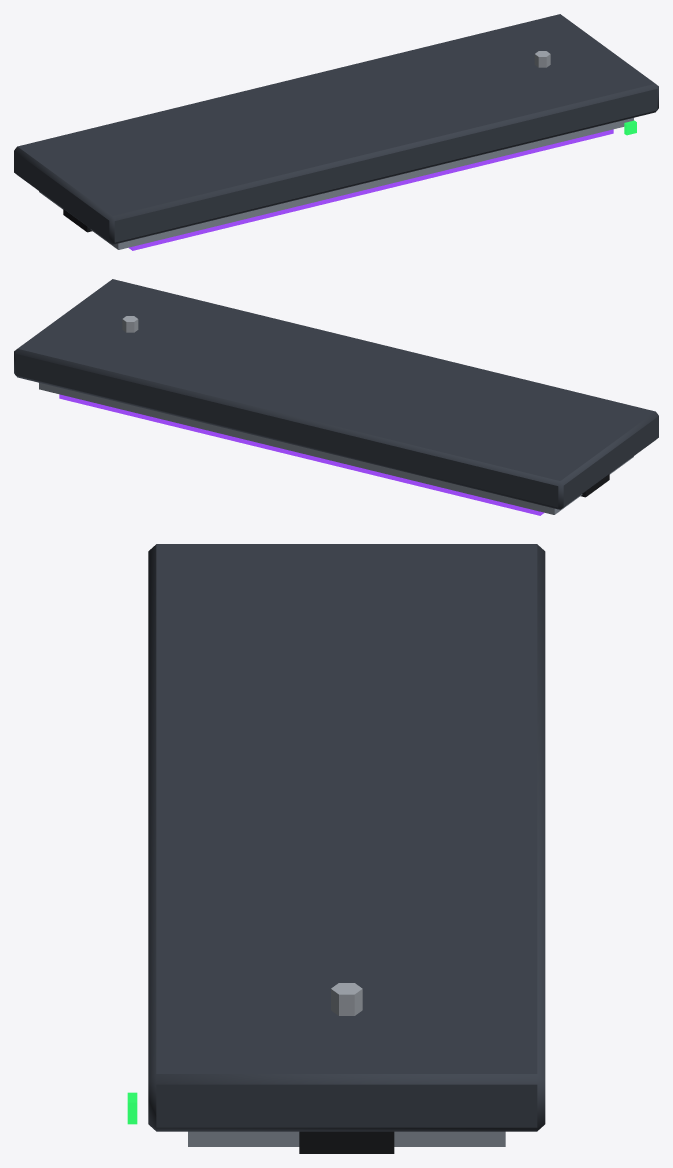
The model's file is planter_grow_light_bar_panel.glb.
3 renders of one model, top to bottom at view 1: azimuth 30°, elevation 25°; view 2: azimuth 150°, elevation 25°; view 3: azimuth 270°, elevation 25°, orthographic. The views are drawn at different scales.
Parts seen in each view (by area): view 1: planter_grow_light_bar_panel; view 2: planter_grow_light_bar_panel; view 3: planter_grow_light_bar_panel.
Boxes of the visible parts, bbox=[...] form: planter_grow_light_bar_panel: bbox=[14, 14, 658, 250]; planter_grow_light_bar_panel: bbox=[14, 279, 658, 515]; planter_grow_light_bar_panel: bbox=[127, 544, 545, 1153].
Bounding box in the file's own units: 1.6 × 0.17 × 0.526.
